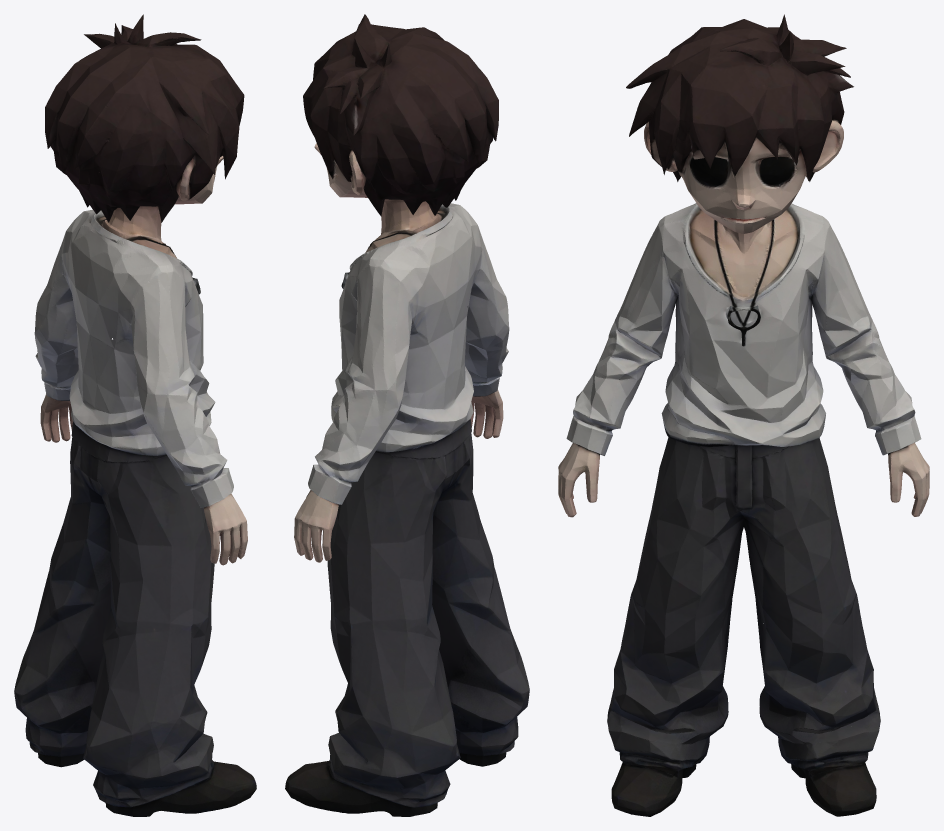
Rendered from character.glb.
3 views of the same model, side by side, from view 1: azimuth 30°, elevation 25°; view 2: azimuth 150°, elevation 25°; view 3: azimuth 270°, elevation 25° (orthographic). The views are drawn at different scales.
Parts seen in each view (by area): view 1: tripo_node_87cbaf60-c084-42ef-8803-21c3df763f43; view 2: tripo_node_87cbaf60-c084-42ef-8803-21c3df763f43; view 3: tripo_node_87cbaf60-c084-42ef-8803-21c3df763f43.
Boxes of the visible parts, x1=… form: tripo_node_87cbaf60-c084-42ef-8803-21c3df763f43: x1=14, y1=14, x2=256, y2=816; tripo_node_87cbaf60-c084-42ef-8803-21c3df763f43: x1=285, y1=14, x2=529, y2=816; tripo_node_87cbaf60-c084-42ef-8803-21c3df763f43: x1=558, y1=14, x2=929, y2=816.
Bounding box in the file's own units: 0.2453 × 0.9937 × 0.4323.
Materials: 1 (1 with a texture image).
